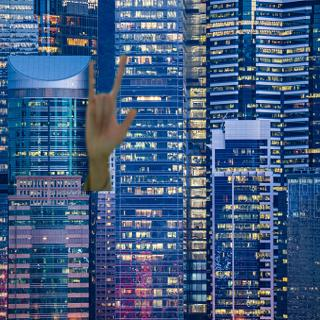ILY: (81, 51, 140, 160)
